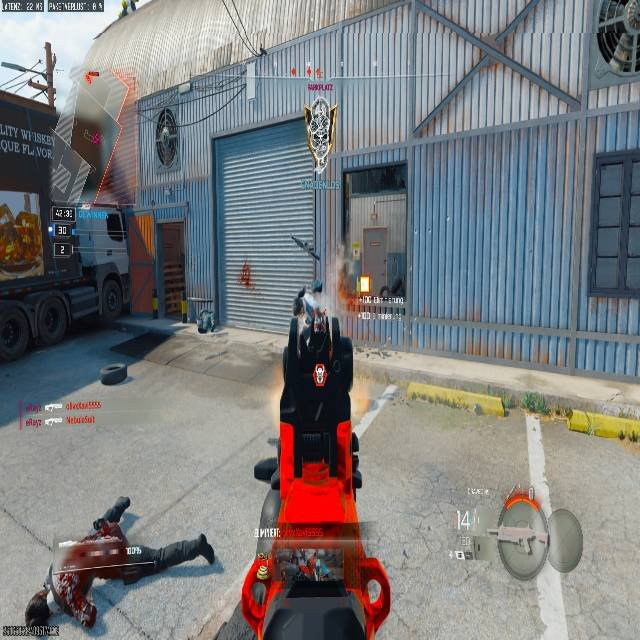player: (25, 504, 219, 639), (15, 44, 121, 209), (154, 106, 179, 168)
